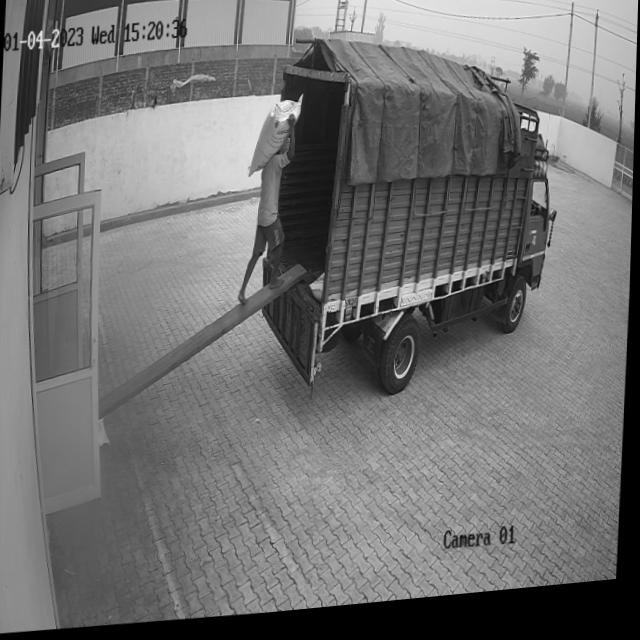sack: (248, 100, 303, 183)
